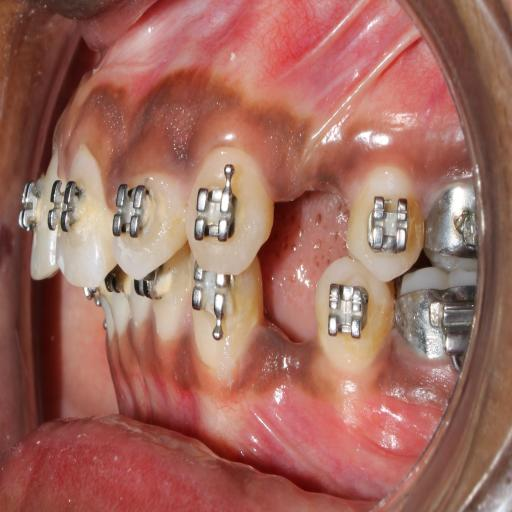correct_brace: (342, 160, 424, 279), (190, 172, 242, 248), (47, 174, 84, 238), (115, 178, 148, 235)
incorrect_brace: (110, 156, 190, 275), (368, 188, 412, 259)
